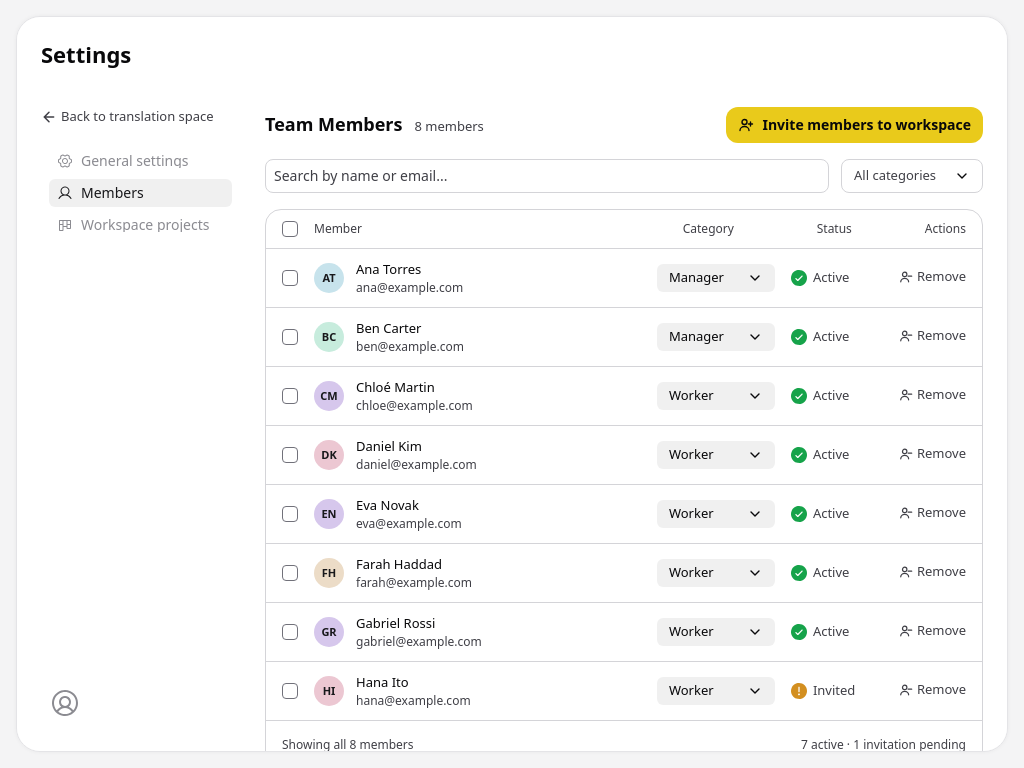
Settings > Members › removes members after confirming, but never yourself
Check: the text "Ana Torres" is shown, box [356,260,421,278]
// The demo's current user is Ana Torres.
Click the button with aria-label "Remove Ana Torres": {"x": 932, "y": 277} [899,267,966,287]
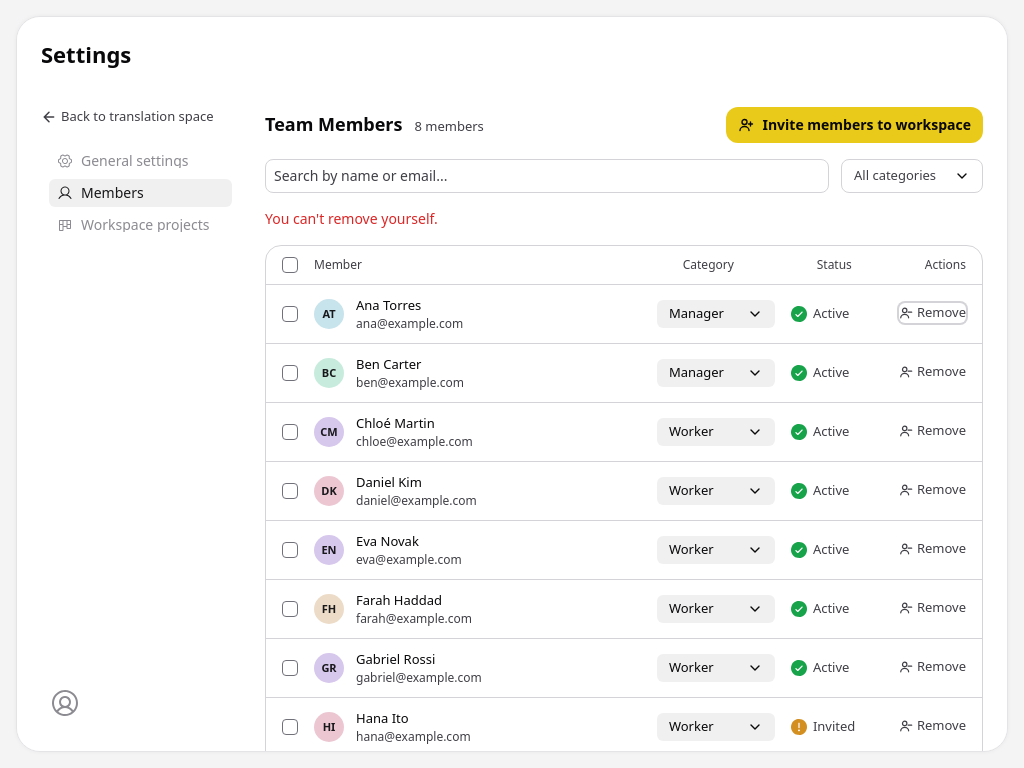
Check: the text "You can't remove yourself." is shown, box [265,209,438,228]
Click the button with aria-label "Remove Daniel Kim": {"x": 932, "y": 490} [899,480,966,500]
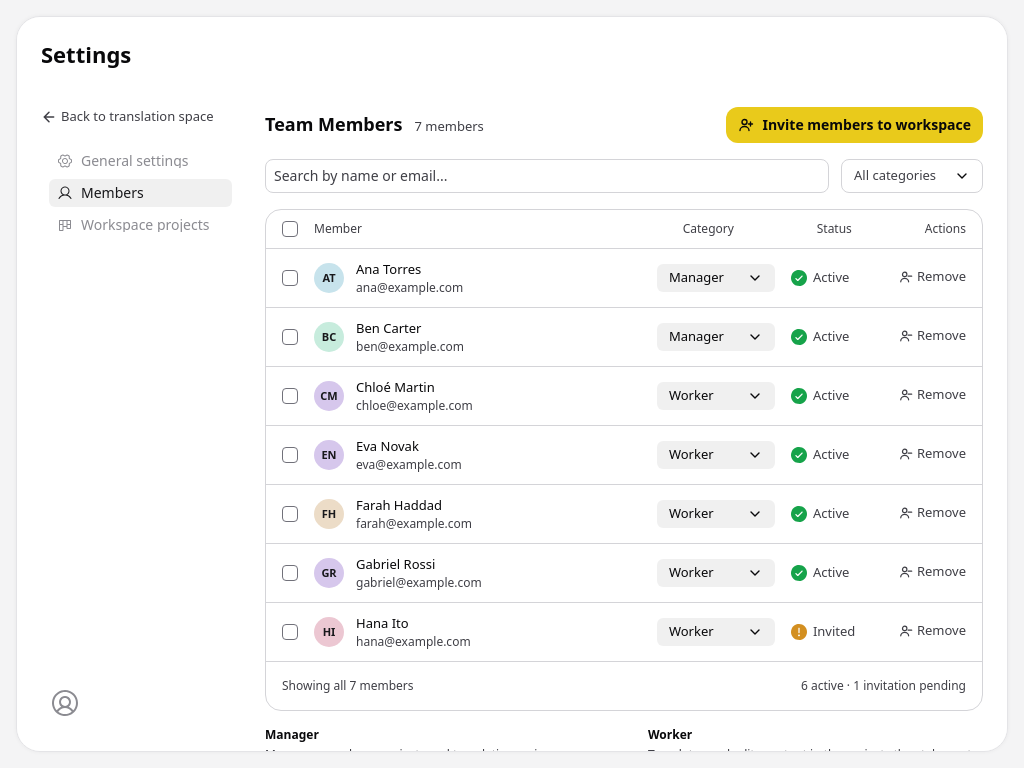
Check: the text "Daniel Kim" is gone
